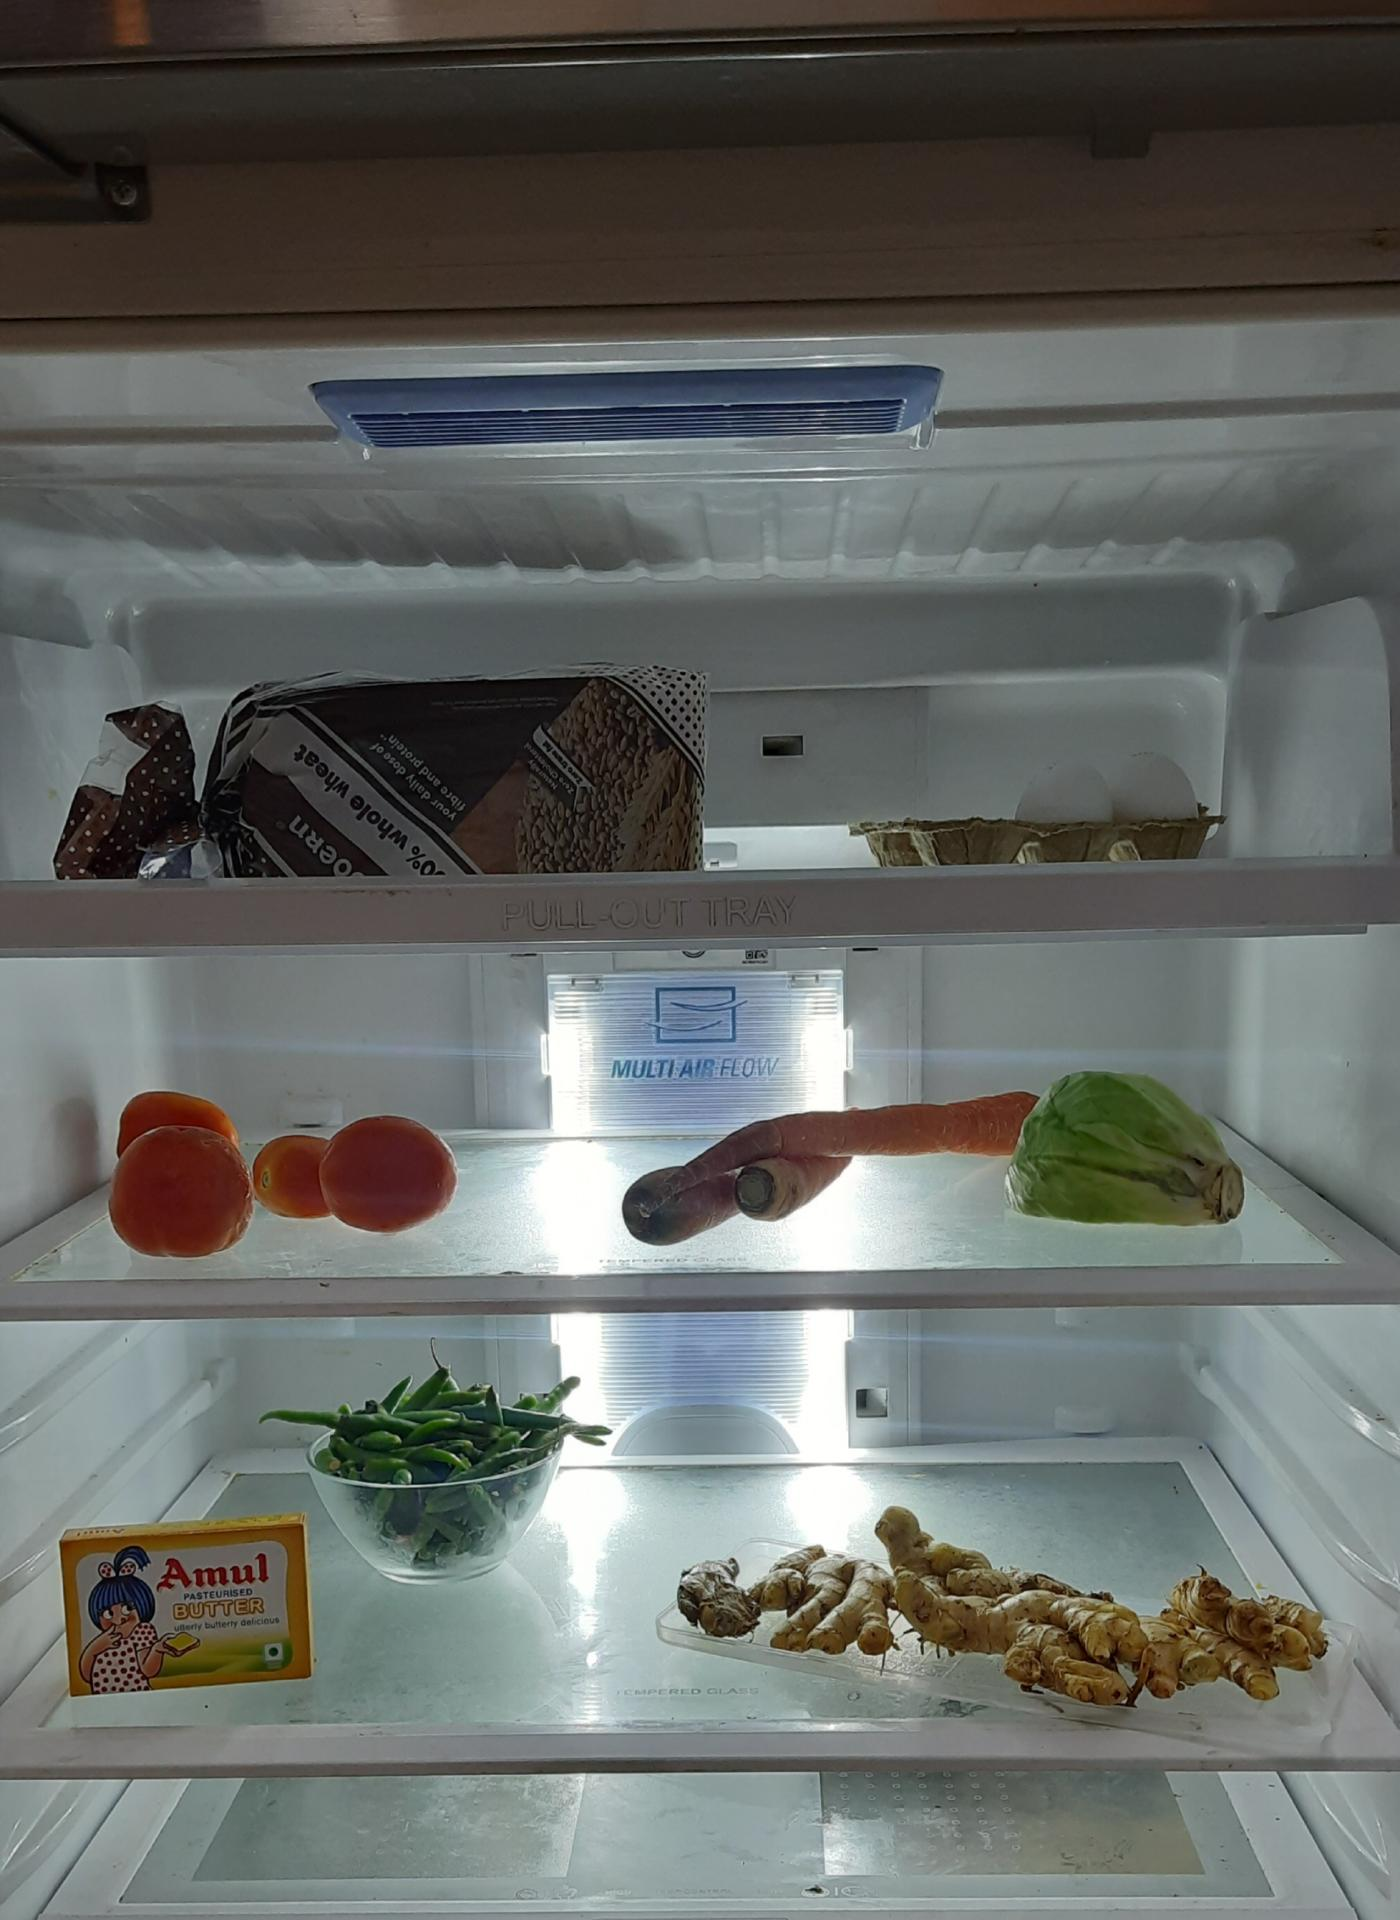bread: (55, 686, 710, 896)
butter: (61, 1522, 318, 1702)
cabbage: (1006, 1070, 1249, 1222)
carrots: (622, 1091, 1042, 1242)
chillies: (321, 1374, 571, 1573)
ginger: (684, 1512, 1322, 1687)
tomato: (110, 1081, 253, 1249), (255, 1109, 459, 1224), (1014, 756, 1200, 824)
